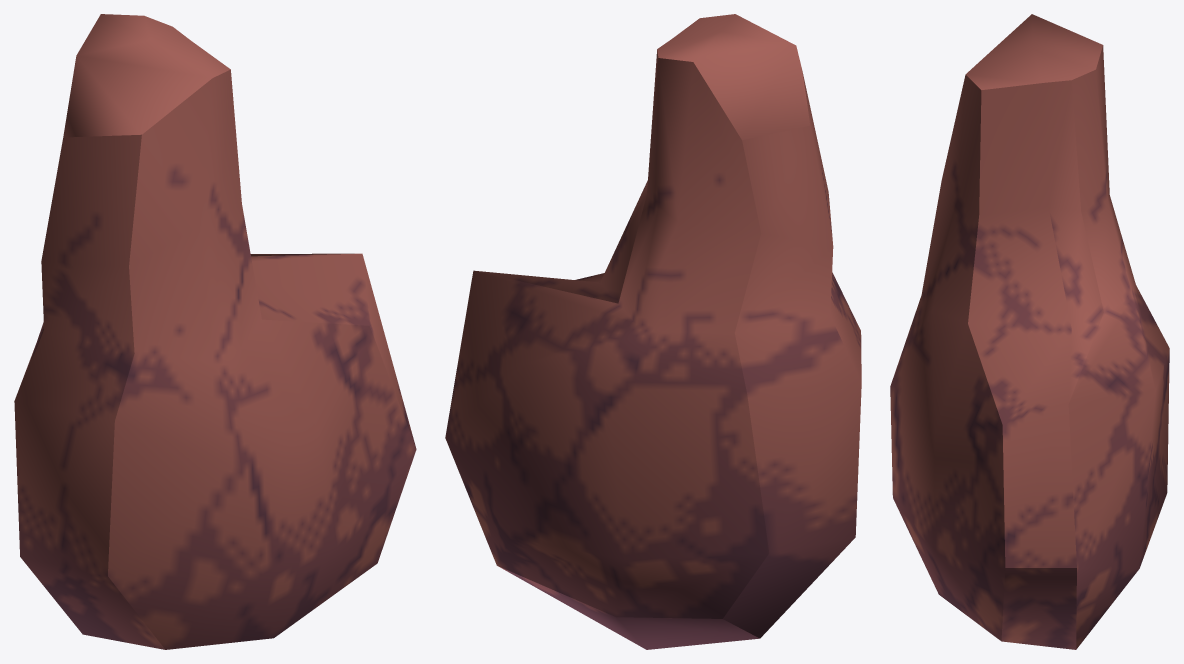
File: model_pillar_1.obj
The picture shows the model from 3 angles, left to right: view 1: azimuth 30°, elevation 25°; view 2: azimuth 150°, elevation 25°; view 3: azimuth 270°, elevation 25°; orthographic projection. The views are drawn at different scales.
Parts seen in each view (by area): view 1: obj_pillar_0; view 2: obj_pillar_0; view 3: obj_pillar_0.
Part boxes in pixels (bbox=[...]): obj_pillar_0: bbox=[14, 14, 416, 649]; obj_pillar_0: bbox=[445, 14, 861, 649]; obj_pillar_0: bbox=[890, 14, 1169, 649].
Size of the model in its own units: 11.79 by 18.03 by 8.11.
1 material, 1 textured.
